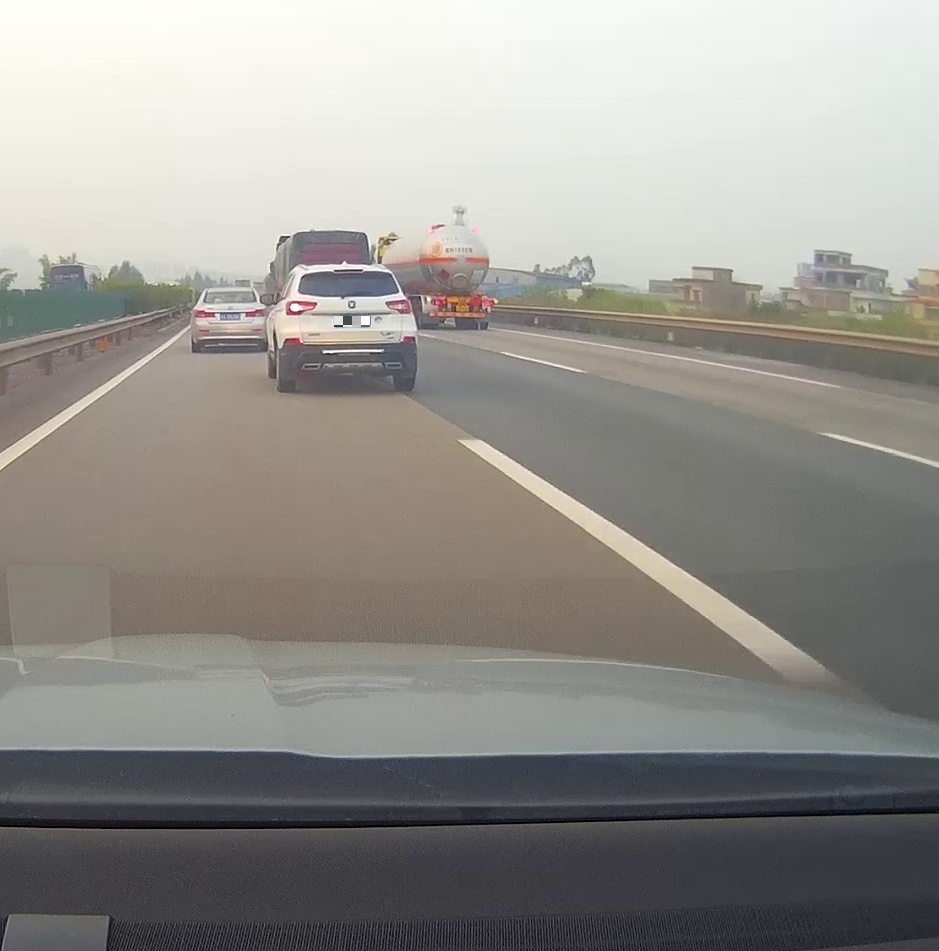L_light: (285, 300, 318, 315), (193, 309, 216, 319), (430, 299, 446, 306)
R_light: (385, 299, 413, 315), (245, 308, 266, 317), (481, 300, 493, 306)
T_light: (333, 269, 364, 273), (458, 297, 467, 300), (225, 291, 237, 293)
day-left: (278, 264, 418, 392)
day-no: (190, 286, 268, 353), (420, 295, 494, 331)
plate_1: (334, 316, 371, 327)
